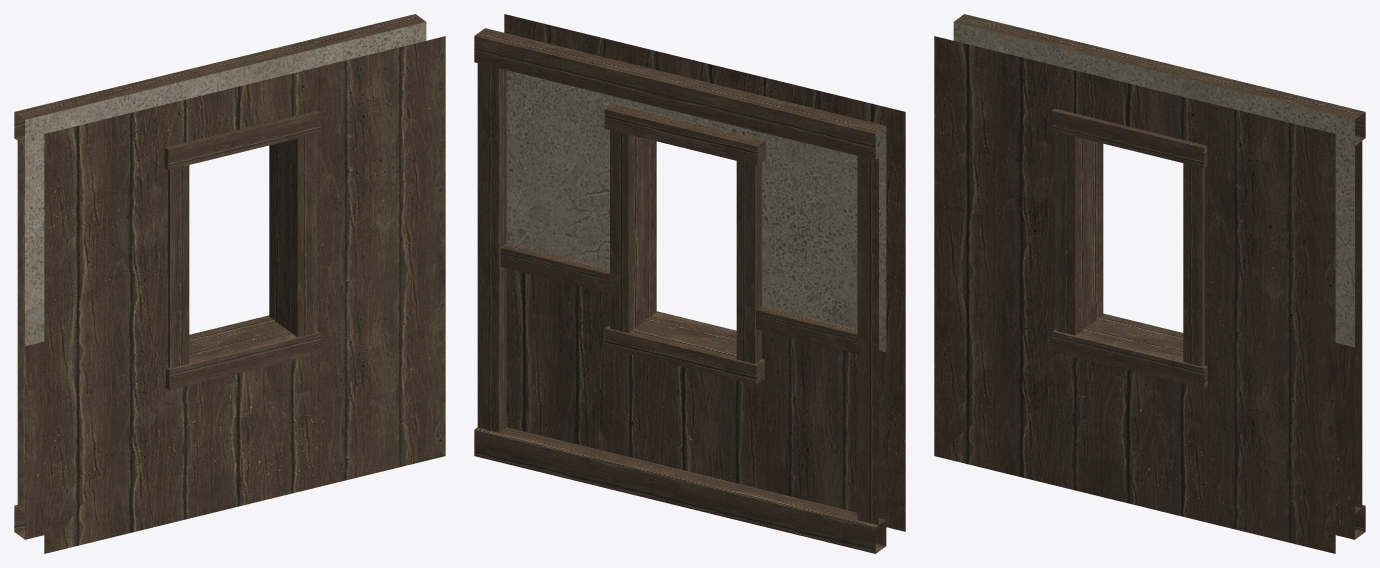
File: ARC1010314.fbx
3 views of the same model, side by side, from view 1: azimuth 30°, elevation 25°; view 2: azimuth 150°, elevation 25°; view 3: azimuth 330°, elevation 25° (orthographic).
Parts seen in each view (by area): view 1: smARC1010314; view 2: smARC1010314; view 3: smARC1010314.
Part boxes in pixels (x1,y1,x2,y2): smARC1010314: (14,14,445,553); smARC1010314: (474,14,905,553); smARC1010314: (934,14,1365,553).
Bounding box in the file's own units: 268 × 268 × 38.82.
Materials: 1 (1 with a texture image).
